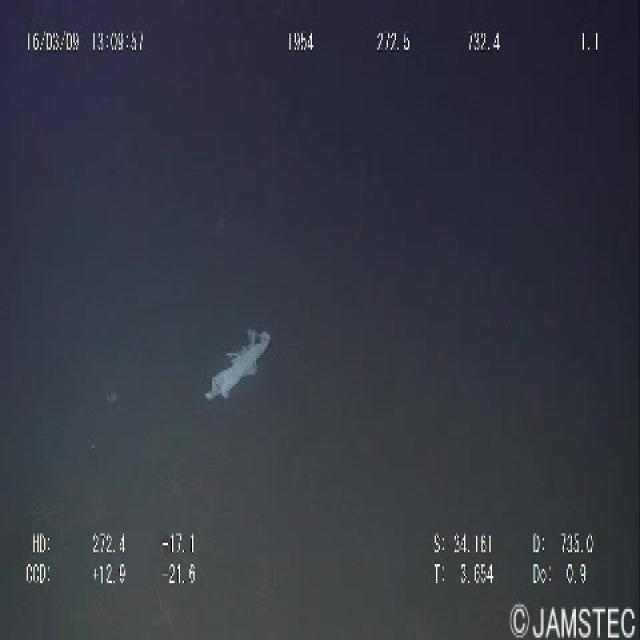plastic: (199, 311, 277, 410)
